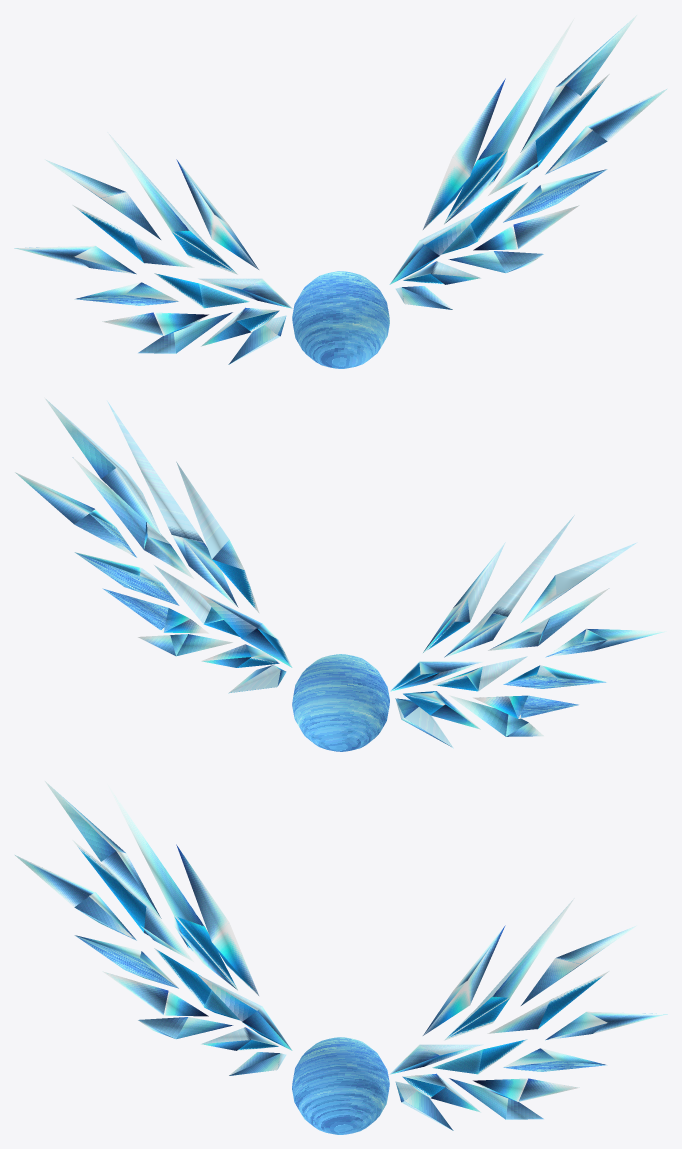
The model's file is ps2_save-icons_panicpalette.glb.
The picture shows the model from 3 angles, top to bottom: view 1: azimuth 30°, elevation 25°; view 2: azimuth 150°, elevation 25°; view 3: azimuth 330°, elevation 25°; orthographic projection.
Parts seen in each view (by area): view 1: pp.ico; view 2: pp.ico; view 3: pp.ico.
Boxes of the visible parts, <box> form: pp.ico: <box>14,15,666,368</box>; pp.ico: <box>15,397,666,751</box>; pp.ico: <box>15,781,667,1134</box>.
Size of the model in its own units: 4.73 by 2.01 by 0.6177.
Materials: 1 (1 with a texture image).
